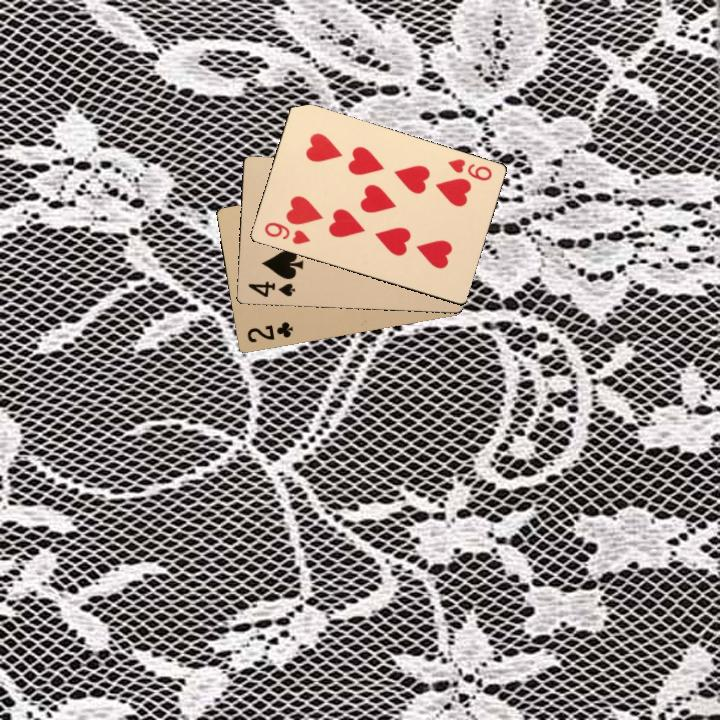2c: (243, 317, 296, 345)
4s: (244, 277, 297, 300)
9h: (260, 218, 312, 247), (444, 154, 495, 183)
